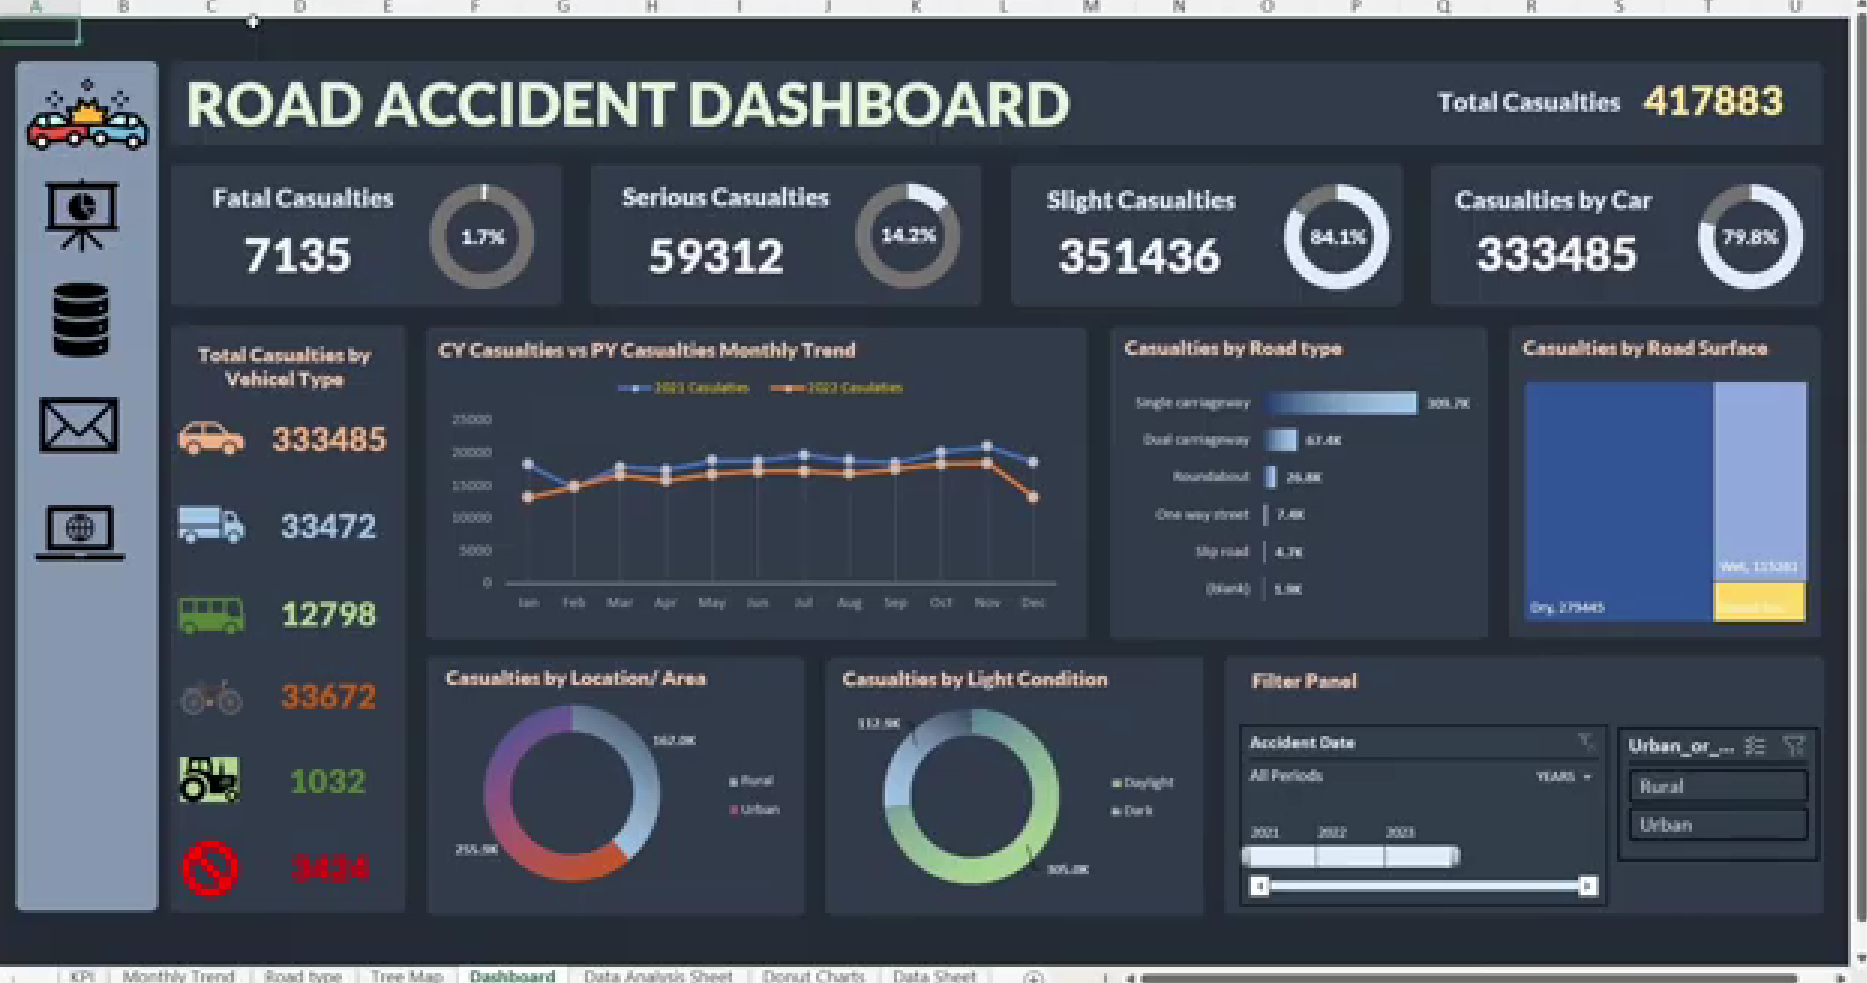

What the dashboard file says about the page in this screenshot:
{"tool":"powerbi","page":{"name":"Page 1","canvas":[1280,720],"ordinal":0},"visuals":[{"type":"actionButton","box":[0,0,100,40],"z":0},{"type":"card","title":"Total CY Accidents","fields":{"Values":["Data.CY accident"]},"box":[264.8,94.7,231.9,75.5],"z":0,"group":"g2"},{"type":"card","title":"Total Serious casualties","fields":{"Values":["Data.curryear_casualities"]},"box":[775.3,97.4,231.9,75.5],"z":0,"group":"g4"},{"type":"card","title":"Total Slight casualties","fields":{"Values":["Data.curryear_casualities"]},"box":[1034.7,98.8,231.9,75.5],"z":0,"group":"g5"},{"type":"card","title":"Total CY casualties","fields":{"Values":["Data.curryear_casualities"]},"box":[13.7,100.2,231.9,75.5],"z":0,"group":"g1"},{"type":"card","title":"Total Fatal casualties","fields":{"Values":["Data.curryear_casualities"]},"box":[524.2,101.5,231.9,75.5],"z":0,"group":"g3"},{"type":"group","id":"g1","title":"Group 1","box":[13.7,100.2,231.9,105.7],"z":1000},{"type":"card","fields":{"Values":["Data.YoY casualties"]},"box":[1110,169.5,85.1,30.2],"z":1000,"group":"g5"},{"type":"card","fields":{"Values":["Data.yoy growth accident"]},"box":[338.9,170.2,85.1,30.2],"z":1000,"group":"g2"},{"type":"card","fields":{"Values":["Data.YoY casualties"]},"box":[850.5,171.1,85.1,30.2],"z":1000,"group":"g4"},{"type":"card","fields":{"Values":["Data.YoY casualties"]},"box":[599.4,175.2,85.1,30.2],"z":1000,"group":"g3"},{"type":"card","fields":{"Values":["Data.YoY casualties"]},"box":[87.8,175.7,85.1,30.2],"z":1000,"group":"g1"},{"type":"group","id":"g2","title":"Group 1","box":[264.8,94.7,231.9,105.7],"z":2000},{"type":"group","id":"g3","title":"Group 1","box":[524.2,101.5,231.9,103.9],"z":3000},{"type":"group","id":"g4","title":"Group 1","box":[775.3,97.4,231.9,104.3],"z":4000},{"type":"group","id":"g5","title":"Group 1","box":[1034.7,98.8,231.9,101.5],"z":5000},{"type":"textbox","box":[20.6,13.7,547.5,50.8],"z":6000},{"type":"textbox","box":[41.2,13.7,618.9,65.9],"z":7000},{"type":"multiRowCard","fields":{"Values":["Data.Vehicle_Type (groups)","Data.curryear_casualities"]},"box":[90.6,271.7,157.8,448.7],"z":8000},{"type":"image","box":[22,271.7,68.6,57.6],"z":9000},{"type":"image","box":[9.6,407.5,87.8,71.4],"z":10000},{"type":"image","box":[9.6,344.4,91.9,63.1],"z":11000},{"type":"image","box":[23.3,496.7,61.7,53.5],"z":12000},{"type":"image","box":[12.3,559.9,83.7,71.4],"z":13000},{"type":"image","box":[13.7,631.2,81,67.2],"z":14000},{"type":"textbox","box":[23.3,236,204.5,35.7],"z":15000},{"type":"areaChart","title":"CY casualties vs PY causualties Monthly Trend","fields":{"Category":["calender.month"],"Y":["Sum(Data.Number_of_Casualties)"],"Series":["calender.Date.Variation.Date Hierarchy.Year"]},"box":[264.8,234.6,443.2,220.9],"z":16000},{"type":"donutChart","title":"CY casualties by Urban/ Rural","fields":{"Category":["Data.Urban_or_Rural_Area"],"Y":["Data.curryear_casualities"]},"box":[732.3,234,236.5,208.7],"z":17000},{"type":"donutChart","title":"Casualties by Light Condition","fields":{"Y":["Data.curryear_casualities"],"Category":["Data.Light_Conditions (groups)"]},"box":[732.3,479,236.5,208.7],"z":18000},{"type":"barChart","title":"Casualities by Road Type","fields":{"Category":["Data.Road_Type"],"Y":["Data.curryear_casualities"]},"box":[265.4,479,442.8,219.6],"z":19000},{"type":"map","fields":{"X":["Data.Longitude"],"Y":["Data.Latitude"],"Category":["Data.Local_Authority_(District)"]},"box":[992.9,234,273.9,457.2],"z":20000}]}

Visuals, with their boxes on the page's 1280x720 design canvas (x1, y1, x2, y2). These are canvas units, not pixel positions in the 1867x983 screenshot, which may show the page scaled, cropped or inside an application window:
actionButton: box(0, 0, 100, 40)
"Total CY Accidents" card: box(265, 95, 497, 170)
"Total Serious casualties" card: box(775, 97, 1007, 173)
"Total Slight casualties" card: box(1035, 99, 1267, 174)
"Total CY casualties" card: box(14, 100, 246, 176)
"Total Fatal casualties" card: box(524, 102, 756, 177)
"Group 1" group: box(14, 100, 246, 206)
card - Data.YoY casualties: box(1110, 170, 1195, 200)
card - Data.yoy growth accident: box(339, 170, 424, 200)
card - Data.YoY casualties: box(850, 171, 936, 201)
card - Data.YoY casualties: box(599, 175, 684, 205)
card - Data.YoY casualties: box(88, 176, 173, 206)
"Group 1" group: box(265, 95, 497, 200)
"Group 1" group: box(524, 102, 756, 205)
"Group 1" group: box(775, 97, 1007, 202)
"Group 1" group: box(1035, 99, 1267, 200)
textbox: box(21, 14, 568, 64)
textbox: box(41, 14, 660, 80)
multiRowCard - Data.Vehicle_Type (groups) x Data.curryear_casualities: box(91, 272, 248, 720)
image: box(22, 272, 91, 329)
image: box(10, 408, 97, 479)
image: box(10, 344, 102, 408)
image: box(23, 497, 85, 550)
image: box(12, 560, 96, 631)
image: box(14, 631, 95, 698)
textbox: box(23, 236, 228, 272)
"CY casualties vs PY causualties Monthly Trend" areaChart: box(265, 235, 708, 456)
"CY casualties by Urban/ Rural" donutChart: box(732, 234, 969, 443)
"Casualties by Light Condition" donutChart: box(732, 479, 969, 688)
"Casualities by Road Type" barChart: box(265, 479, 708, 699)
map - Data.Longitude x Data.Latitude: box(993, 234, 1267, 691)
